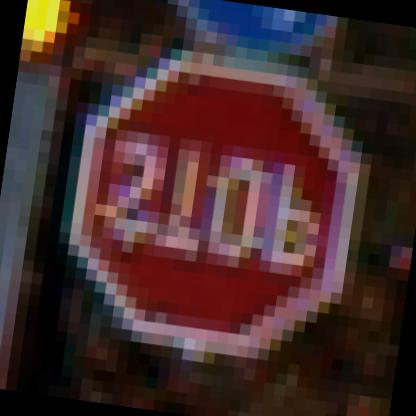stop: (30, 23, 392, 374)
